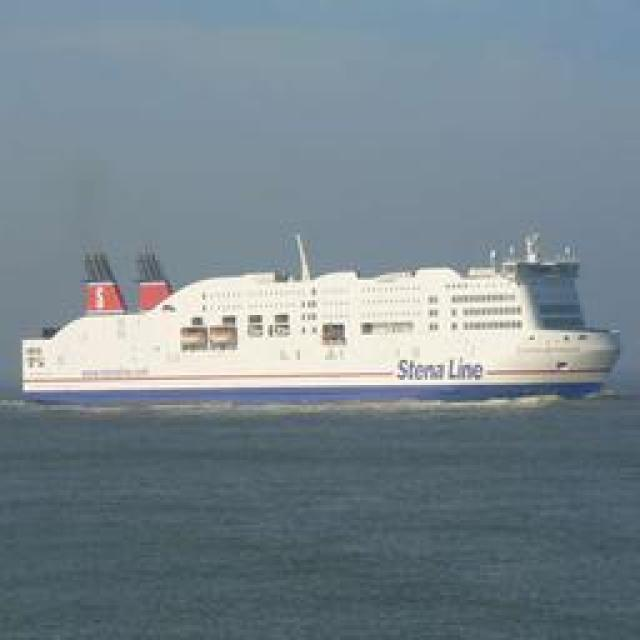CIV_Ship: (2, 227, 618, 405)
